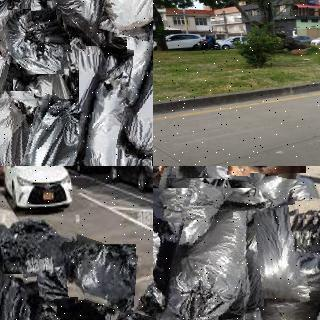Garbage: (162, 183, 267, 320), (75, 47, 153, 166), (236, 206, 308, 308), (153, 254, 251, 320), (14, 96, 93, 166), (62, 239, 140, 308), (21, 237, 83, 307), (4, 9, 67, 76), (38, 0, 115, 53), (287, 199, 320, 320), (121, 36, 153, 159), (153, 184, 180, 311), (0, 87, 41, 166), (0, 15, 19, 135), (103, 0, 153, 40), (0, 271, 40, 320), (109, 284, 153, 320), (64, 298, 132, 320), (21, 296, 77, 320), (134, 254, 153, 316)
